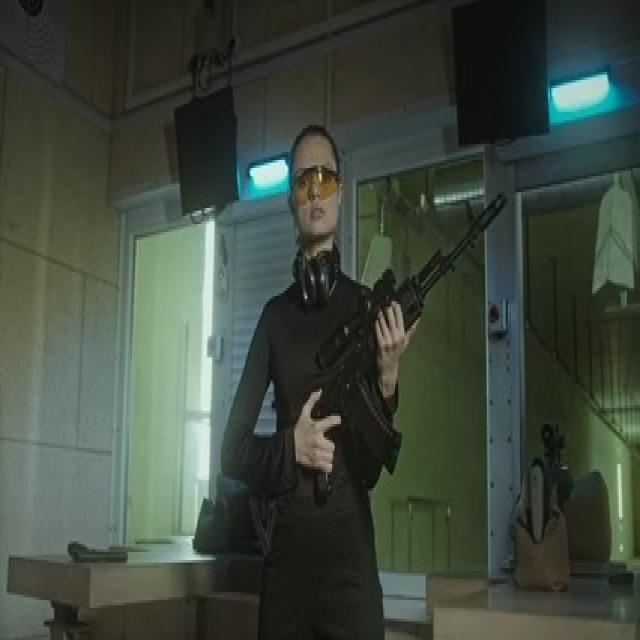Gun_Holder: (250, 203, 509, 491)
Person: (223, 121, 415, 640)
